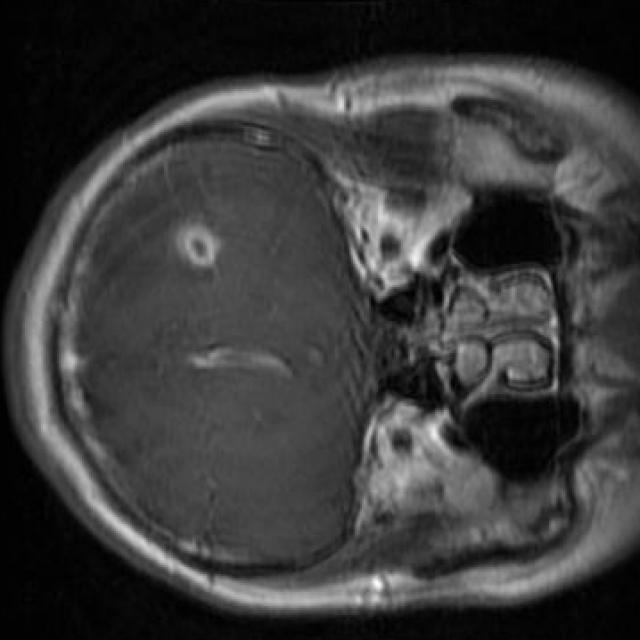glioma: (91, 162, 221, 294)
